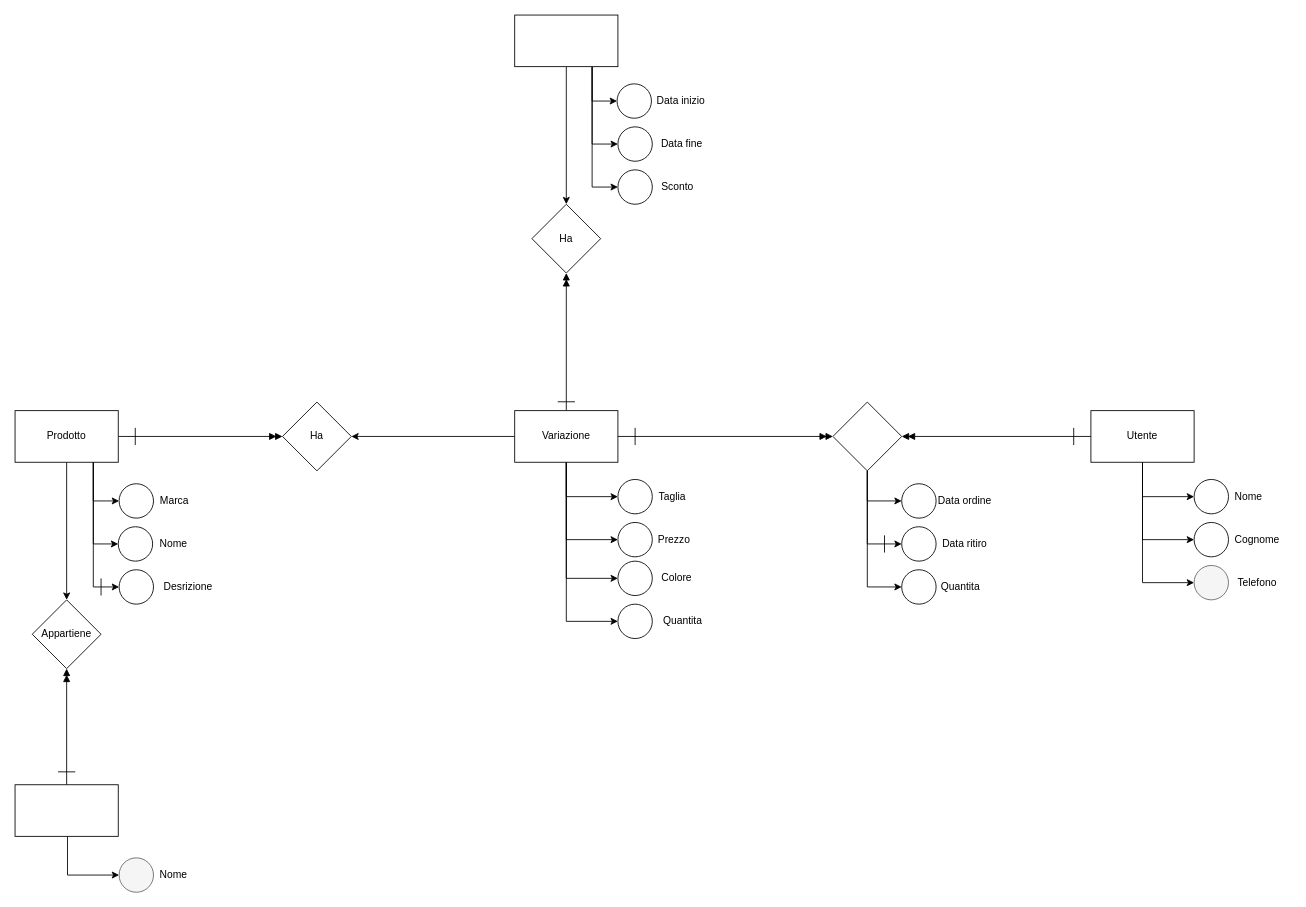
The diagram is 1306 pixels wide and 907 high, and some of its shapes have lost their labels. Here are the shapes that lost their labels. From the top down, the centre of each, then its label:
(x=566, y=40): Offerta
(x=867, y=436): Ordine
(x=66, y=810): Categoria
